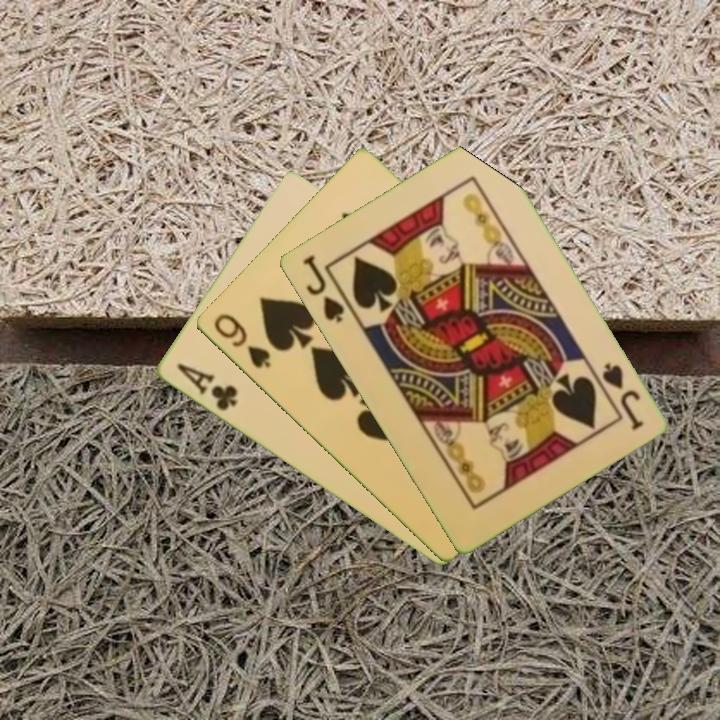9s: (209, 310, 273, 372)
Ac: (172, 359, 240, 414)
Js: (298, 251, 347, 326), (597, 359, 646, 433)
